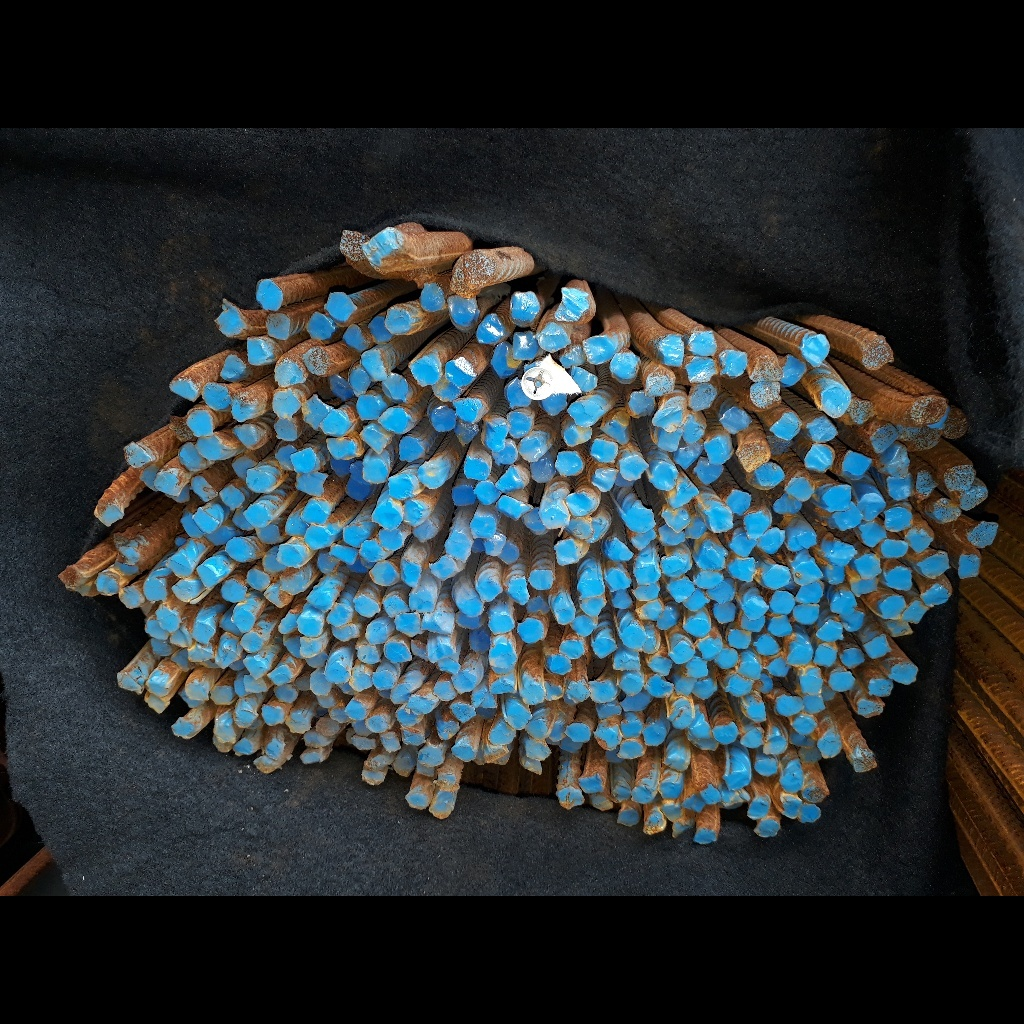dipstick: (451, 253, 490, 297), (365, 228, 402, 265), (522, 366, 554, 401), (555, 289, 588, 321), (862, 336, 893, 370), (748, 353, 783, 382), (448, 294, 478, 326), (216, 305, 245, 338), (696, 542, 728, 571), (803, 334, 830, 368), (410, 357, 441, 386), (371, 501, 402, 530), (302, 395, 328, 429), (910, 397, 944, 423), (445, 357, 476, 385), (538, 324, 570, 351), (646, 367, 675, 396), (256, 281, 284, 311), (234, 425, 269, 449), (510, 291, 537, 322), (492, 343, 519, 374), (967, 521, 998, 548), (769, 412, 801, 438), (611, 352, 639, 381), (821, 388, 849, 417), (202, 382, 232, 409), (369, 561, 401, 586), (685, 357, 717, 382), (418, 462, 446, 490), (326, 293, 355, 320), (570, 401, 600, 427), (585, 337, 613, 364), (628, 506, 656, 533), (518, 618, 546, 645), (824, 484, 851, 512), (305, 313, 334, 339), (179, 445, 208, 471), (687, 385, 716, 411), (739, 443, 768, 469), (275, 360, 305, 385), (247, 467, 277, 492), (660, 335, 684, 366), (920, 554, 951, 578), (196, 437, 228, 460), (303, 347, 330, 374), (490, 645, 517, 672), (272, 392, 300, 418), (476, 315, 502, 343), (688, 331, 716, 357), (947, 465, 975, 491), (806, 445, 834, 471), (341, 230, 366, 259), (361, 349, 385, 379), (721, 409, 751, 433), (422, 612, 454, 634), (361, 427, 388, 453), (721, 350, 747, 377), (859, 494, 885, 521), (869, 424, 896, 450), (190, 477, 218, 502), (292, 448, 320, 473), (628, 391, 656, 416), (621, 455, 649, 480), (932, 497, 960, 522), (421, 283, 445, 312), (357, 395, 386, 419), (782, 357, 806, 386), (841, 452, 871, 475), (808, 418, 838, 441), (484, 420, 506, 451), (499, 496, 530, 518), (887, 446, 909, 477), (188, 410, 214, 436), (168, 551, 194, 577), (246, 338, 271, 365), (115, 547, 140, 574), (457, 588, 482, 615), (513, 332, 538, 359), (572, 368, 599, 393), (556, 451, 583, 476), (591, 440, 618, 465), (835, 504, 862, 529), (327, 438, 359, 459), (692, 716, 713, 748), (785, 532, 817, 553), (885, 507, 913, 531), (943, 409, 967, 437), (429, 557, 458, 580), (380, 410, 409, 433), (456, 401, 485, 424), (884, 568, 913, 591), (914, 471, 937, 500), (660, 557, 693, 577), (386, 308, 412, 333), (221, 356, 246, 382), (704, 438, 729, 464), (709, 578, 735, 603), (220, 579, 247, 603), (653, 463, 677, 490), (505, 704, 532, 728), (233, 392, 256, 420), (446, 532, 469, 560), (589, 680, 617, 703), (762, 565, 790, 588), (563, 424, 592, 446), (753, 465, 782, 487), (793, 562, 822, 584), (653, 407, 683, 428), (265, 313, 290, 338), (279, 568, 304, 593), (399, 437, 424, 462), (506, 413, 531, 438), (124, 443, 150, 467), (219, 485, 245, 509), (362, 459, 388, 483), (619, 625, 645, 649), (757, 529, 783, 553), (384, 374, 407, 401), (506, 578, 529, 605), (295, 474, 326, 494), (545, 388, 567, 416), (828, 543, 856, 565), (960, 488, 988, 510), (388, 476, 413, 500), (657, 428, 682, 452), (568, 493, 593, 517), (594, 728, 619, 752), (780, 769, 804, 794), (197, 562, 220, 588), (396, 613, 422, 636), (860, 522, 886, 545), (305, 589, 332, 611), (707, 510, 734, 532), (322, 413, 350, 434), (695, 462, 723, 483), (726, 676, 754, 697), (232, 453, 256, 477), (475, 482, 499, 506), (604, 422, 628, 446), (566, 679, 590, 703), (732, 558, 756, 582), (881, 595, 905, 619), (343, 324, 366, 349), (170, 417, 193, 442), (305, 527, 330, 550), (497, 469, 522, 492), (635, 562, 660, 585), (226, 538, 252, 560), (302, 502, 328, 524), (142, 579, 168, 601), (408, 590, 434, 612), (509, 380, 531, 406), (592, 468, 618, 490), (787, 477, 813, 499), (850, 399, 872, 425), (331, 375, 352, 402), (646, 675, 673, 696), (277, 544, 305, 564), (384, 642, 412, 662), (192, 622, 215, 646), (173, 579, 196, 603), (432, 407, 456, 430), (434, 378, 458, 401), (519, 437, 542, 461), (464, 458, 488, 481), (531, 459, 554, 483), (556, 540, 579, 564), (619, 673, 643, 696), (740, 726, 764, 749), (633, 601, 662, 620), (856, 698, 885, 717), (171, 379, 196, 401), (355, 596, 380, 618), (543, 507, 568, 529), (672, 485, 697, 507), (606, 569, 631, 591), (669, 579, 694, 601), (907, 530, 932, 552), (817, 620, 843, 641), (855, 556, 881, 577), (95, 505, 122, 525), (578, 578, 605, 598), (722, 789, 749, 809), (913, 429, 940, 449), (579, 597, 607, 616), (891, 665, 919, 684), (643, 723, 666, 746), (671, 704, 694, 727), (814, 645, 837, 668), (343, 525, 367, 547), (678, 443, 700, 467), (682, 419, 704, 443), (819, 733, 841, 757), (865, 635, 889, 657), (889, 477, 913, 499), (346, 479, 371, 500), (118, 670, 143, 691), (287, 713, 312, 734), (378, 529, 403, 550), (566, 722, 591, 743), (695, 571, 724, 589), (58, 567, 84, 587), (369, 316, 389, 342), (492, 444, 518, 464), (607, 540, 633, 560), (402, 561, 421, 588), (776, 696, 803, 715), (158, 608, 180, 631), (437, 769, 460, 791), (559, 345, 582, 367), (728, 491, 750, 514), (247, 569, 271, 590), (234, 608, 255, 632), (529, 569, 553, 590), (663, 510, 687, 531), (714, 723, 738, 744), (788, 644, 812, 665), (731, 535, 755, 556), (922, 586, 950, 604), (880, 540, 908, 558), (524, 509, 544, 534), (489, 614, 514, 634), (351, 370, 370, 396), (451, 703, 477, 722), (724, 771, 750, 790), (263, 589, 290, 607), (684, 619, 711, 637), (196, 510, 218, 532), (96, 573, 118, 595), (469, 631, 491, 653), (479, 579, 501, 601), (522, 684, 544, 706), (437, 719, 460, 740), (671, 642, 694, 663), (854, 753, 877, 774), (771, 593, 794, 614), (154, 473, 178, 493), (120, 588, 144, 608), (573, 615, 597, 635), (684, 591, 708, 611), (698, 638, 722, 658), (728, 629, 752, 649), (172, 719, 197, 738), (394, 752, 413, 777), (356, 643, 381, 662), (384, 597, 409, 616), (527, 596, 552, 615), (484, 746, 509, 765), (559, 788, 584, 807), (829, 672, 854, 691), (417, 746, 443, 764), (659, 527, 685, 545), (489, 726, 515, 744), (797, 585, 823, 603), (631, 585, 660, 601), (884, 621, 913, 637), (274, 420, 296, 441), (361, 539, 382, 561), (366, 623, 388, 644), (746, 514, 767, 536), (453, 672, 476, 692), (414, 521, 437, 541), (456, 424, 476, 447), (471, 517, 494, 537), (569, 518, 592, 538), (780, 797, 800, 820), (737, 659, 760, 679), (714, 603, 737, 623), (959, 554, 979, 577), (489, 677, 516, 694), (274, 446, 293, 470), (326, 663, 350, 682), (526, 741, 550, 760), (560, 640, 584, 659), (694, 680, 718, 699), (840, 648, 864, 667), (256, 525, 281, 543), (327, 607, 352, 625), (409, 695, 434, 713), (592, 638, 617, 656), (658, 606, 676, 631), (659, 781, 684, 799), (756, 636, 781, 654), (764, 657, 789, 675), (332, 625, 360, 641), (455, 612, 481, 629), (631, 532, 657, 549), (803, 785, 829, 802), (262, 705, 283, 726), (796, 604, 817, 625), (906, 602, 927, 623), (247, 505, 269, 525), (311, 673, 331, 695), (453, 485, 475, 505), (801, 675, 823, 695), (716, 649, 738, 669), (316, 555, 339, 574), (299, 616, 322, 635), (763, 735, 786, 754), (332, 545, 356, 563), (254, 758, 281, 774), (244, 659, 268, 677), (399, 672, 423, 690), (472, 689, 496, 707), (687, 516, 705, 540), (686, 659, 710, 677), (852, 579, 879, 595), (647, 657, 672, 674), (620, 743, 645, 760), (241, 633, 262, 653), (379, 732, 400, 752), (527, 719, 548, 739), (613, 655, 641, 670), (675, 676, 696, 696), (745, 701, 765, 722), (771, 615, 792, 635), (429, 800, 451, 819), (434, 682, 456, 701), (403, 502, 422, 524), (549, 654, 571, 673), (745, 599, 767, 618), (207, 527, 233, 543), (304, 733, 330, 749), (644, 628, 660, 654), (406, 792, 429, 810), (452, 744, 475, 762), (793, 716, 816, 734), (263, 547, 280, 571), (244, 676, 268, 693), (372, 671, 396, 688), (832, 596, 856, 613), (621, 696, 650, 710), (775, 497, 802, 512), (299, 637, 319, 657), (351, 672, 371, 692), (429, 645, 454, 661), (211, 686, 232, 705), (590, 522, 609, 543), (555, 604, 574, 625), (748, 800, 769, 819), (216, 647, 238, 665), (316, 719, 339, 736), (274, 686, 297, 703), (411, 639, 428, 662), (770, 438, 793, 455), (643, 816, 666, 833), (869, 679, 892, 696), (187, 647, 213, 662), (366, 754, 392, 769), (580, 777, 604, 793), (694, 828, 718, 844), (172, 628, 192, 647), (346, 700, 366, 719), (543, 681, 563, 700), (622, 720, 641, 740), (286, 517, 307, 535), (501, 544, 519, 565), (591, 794, 612, 812), (799, 747, 820, 765), (804, 696, 825, 714), (754, 821, 779, 836), (187, 682, 209, 699), (221, 613, 238, 635), (396, 710, 418, 727), (609, 592, 632, 608), (665, 756, 688, 772), (391, 684, 410, 703), (702, 785, 721, 804), (801, 803, 820, 822), (237, 710, 257, 728), (279, 613, 297, 633), (741, 616, 765, 631), (368, 715, 389, 732), (632, 786, 653, 803), (618, 810, 639, 827), (284, 636, 300, 658), (549, 720, 565, 742), (401, 732, 426, 746), (790, 734, 815, 748), (485, 535, 503, 554), (183, 516, 200, 536), (146, 696, 166, 713), (266, 740, 283, 760), (611, 786, 631, 803), (317, 692, 338, 708), (521, 760, 543, 775), (148, 621, 167, 638), (440, 657, 459, 674), (756, 677, 775, 694), (148, 679, 168, 695), (215, 724, 235, 740), (756, 759, 776, 775), (140, 469, 155, 490), (363, 769, 384, 784), (352, 736, 376, 749), (826, 566, 844, 583), (172, 652, 188, 671), (662, 805, 681, 821), (599, 703, 619, 718), (306, 655, 327, 669), (328, 702, 344, 720), (672, 822, 690, 838), (560, 740, 582, 753), (152, 640, 171, 655), (234, 739, 251, 755), (684, 796, 703, 810), (604, 748, 620, 764), (301, 752, 322, 764), (416, 764, 434, 778), (354, 722, 371, 736), (213, 741, 232, 752), (234, 678, 245, 697), (472, 538, 485, 552)
